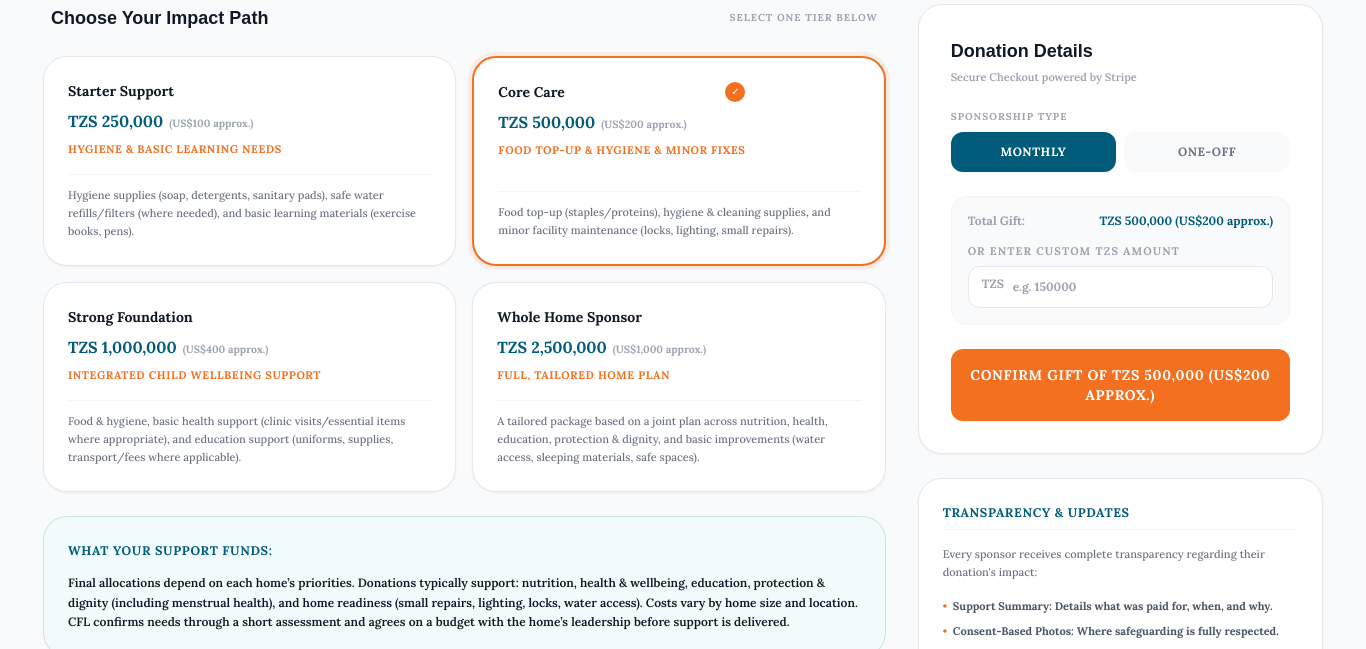
Donation Flow › displays error when API returns error
(page scrolled)
Click the button "Confirm Gift of TZS 500,000 (US$200 approx.)": coordinates (1120, 385) [951, 349, 1290, 421]
(page scrolled)
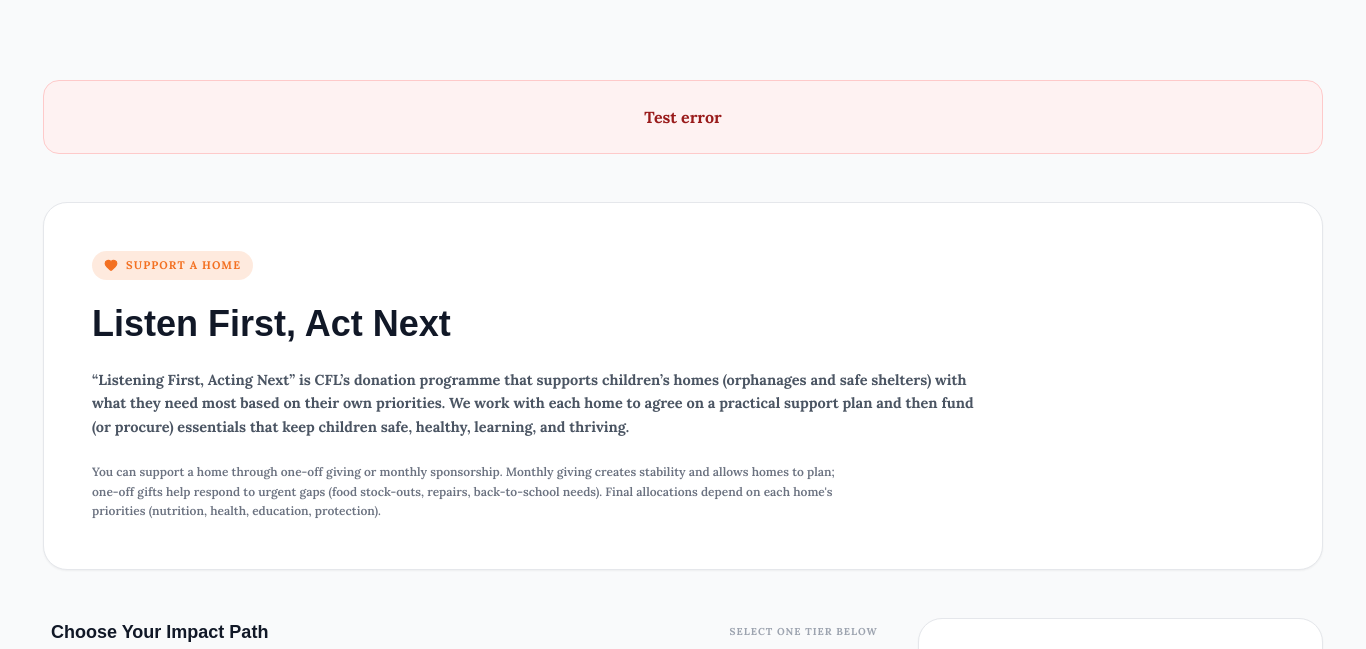
Result: the text "Test error" is shown at [644, 107, 722, 127]
